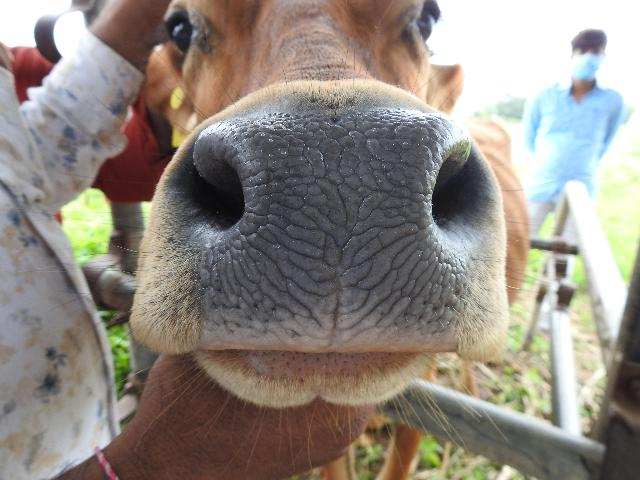Muzzle: (196, 115, 462, 343)
